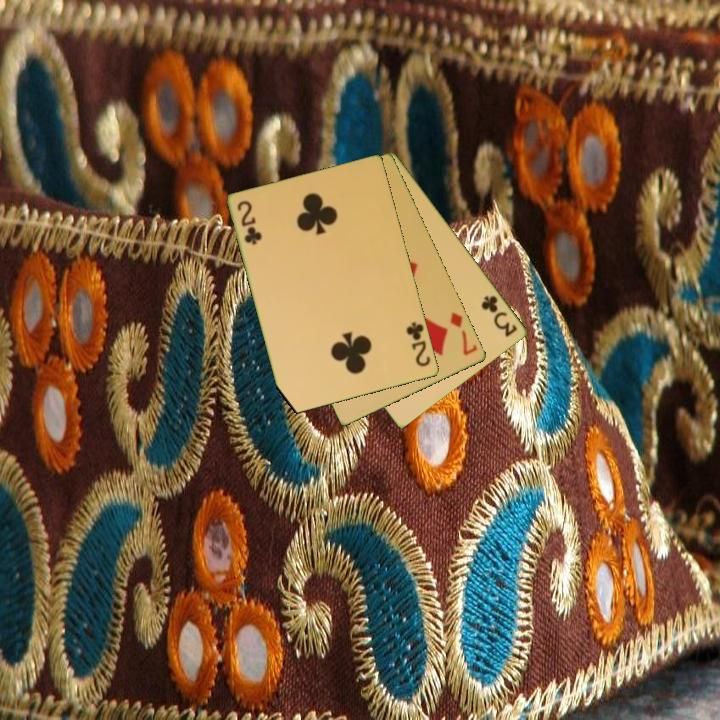2c: (403, 318, 434, 370), (234, 197, 264, 248)
3c: (478, 292, 521, 340)
7d: (447, 308, 481, 358)
